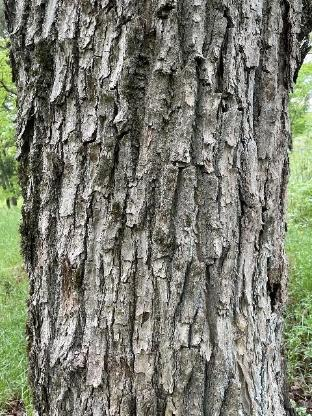tree: (1, 0, 304, 416)
